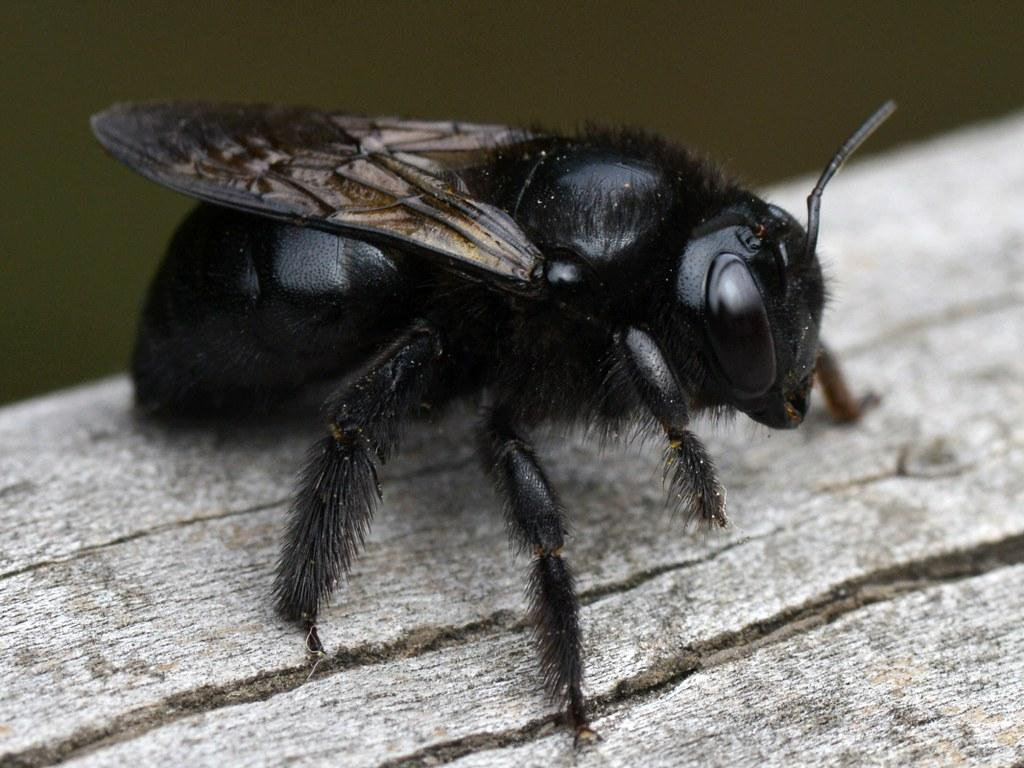Allodapula: (88, 58, 944, 693)
